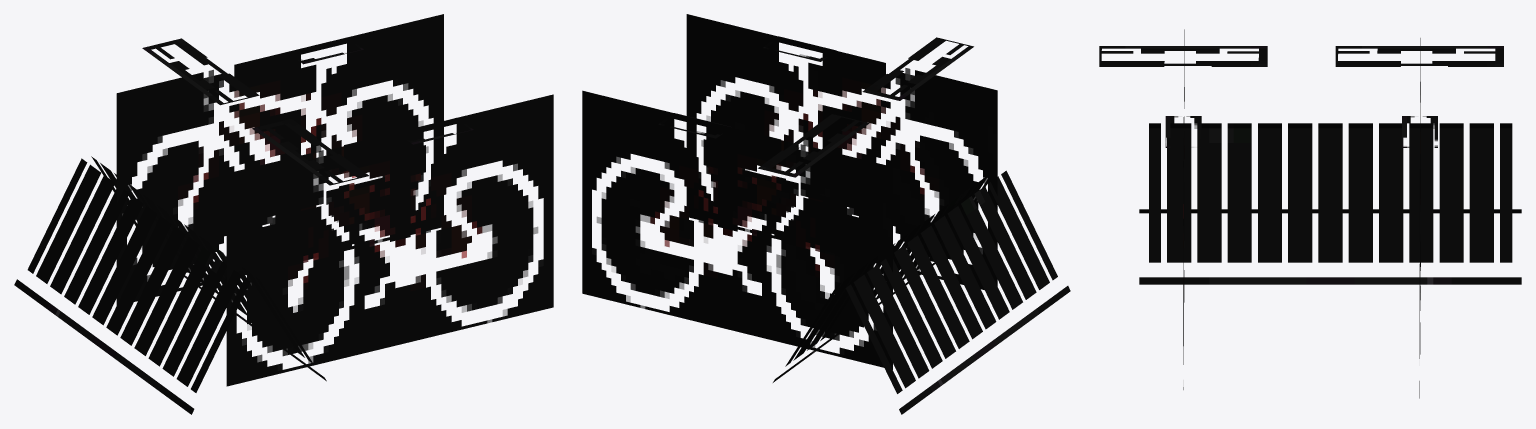
File: Environment - Prop - Bike Rack - PMBikeRack.glb
3 renders of one model, left to right at view 1: azimuth 30°, elevation 25°; view 2: azimuth 150°, elevation 25°; view 3: azimuth 270°, elevation 25°, orthographic. The views are drawn at different scales.
Parts seen in each view (by area): view 1: PMBIKERACK; view 2: PMBIKERACK; view 3: PMBIKERACK.
Part boxes in pixels (box(x1,y1,x2,y2)): PMBIKERACK: box(14, 14, 553, 414); PMBIKERACK: box(582, 14, 1070, 414); PMBIKERACK: box(1099, 29, 1521, 398).
Bounding box in the file's own units: 4.88 × 2.61 × 4.33.
1 material, 1 textured.
